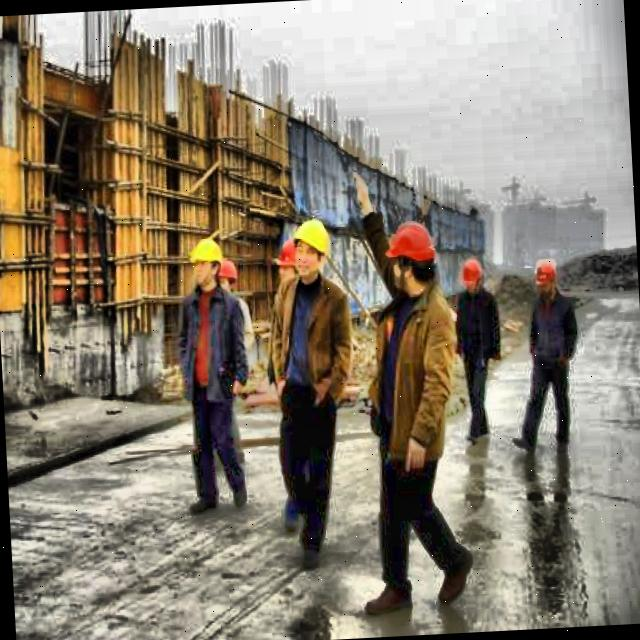helmet: (381, 220, 442, 303), (293, 214, 334, 286), (188, 235, 228, 296), (527, 255, 561, 304), (270, 240, 300, 294), (212, 254, 240, 308), (454, 252, 486, 293)
